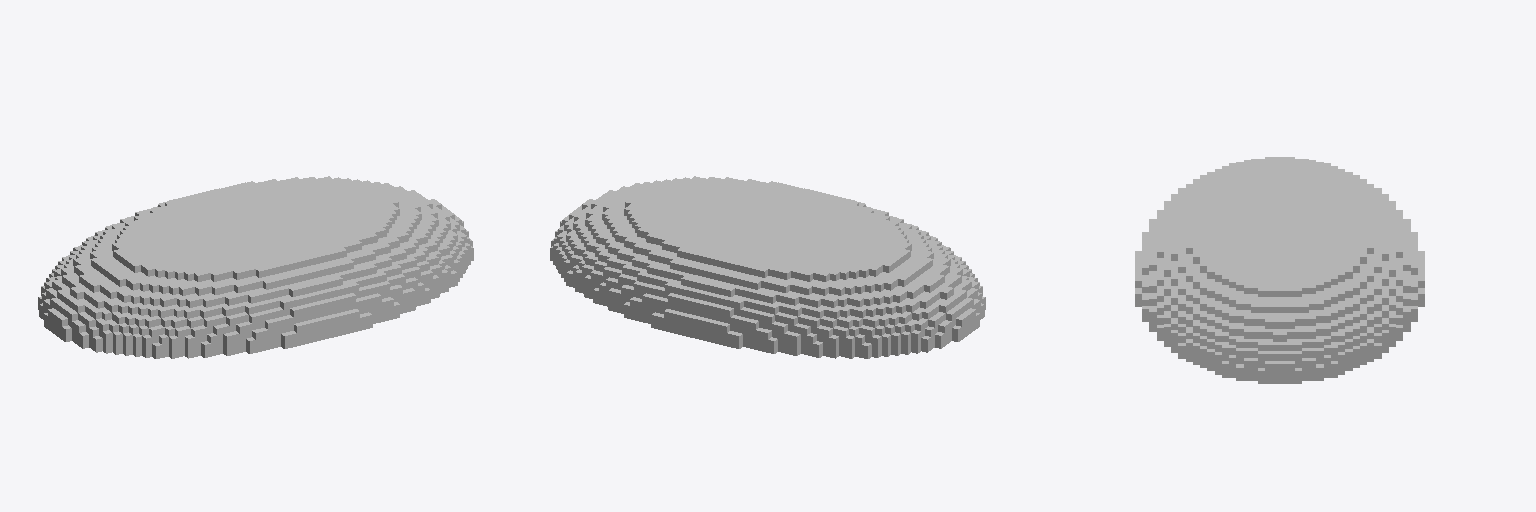
File: Snowdrift_4.obj
The picture shows the model from 3 angles: view 1: azimuth 30°, elevation 25°; view 2: azimuth 150°, elevation 25°; view 3: azimuth 270°, elevation 25°; orthographic projection.
Parts seen in each view (by area): view 1: object 1; view 2: object 1; view 3: object 1.
Part boxes in pixels (bbox=[...]): object 1: bbox=[38, 176, 473, 358]; object 1: bbox=[550, 176, 985, 358]; object 1: bbox=[1135, 157, 1424, 383].
Size of the model in its own units: 6.4 by 0.9 by 4.